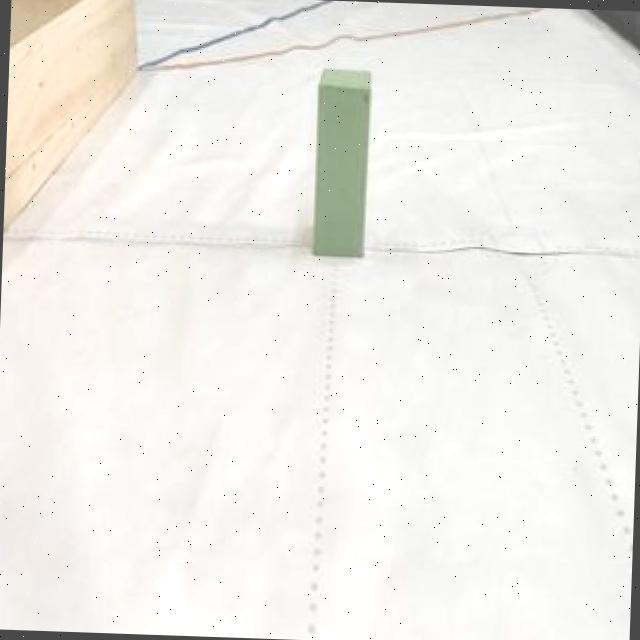greenbox: (308, 63, 374, 258)
